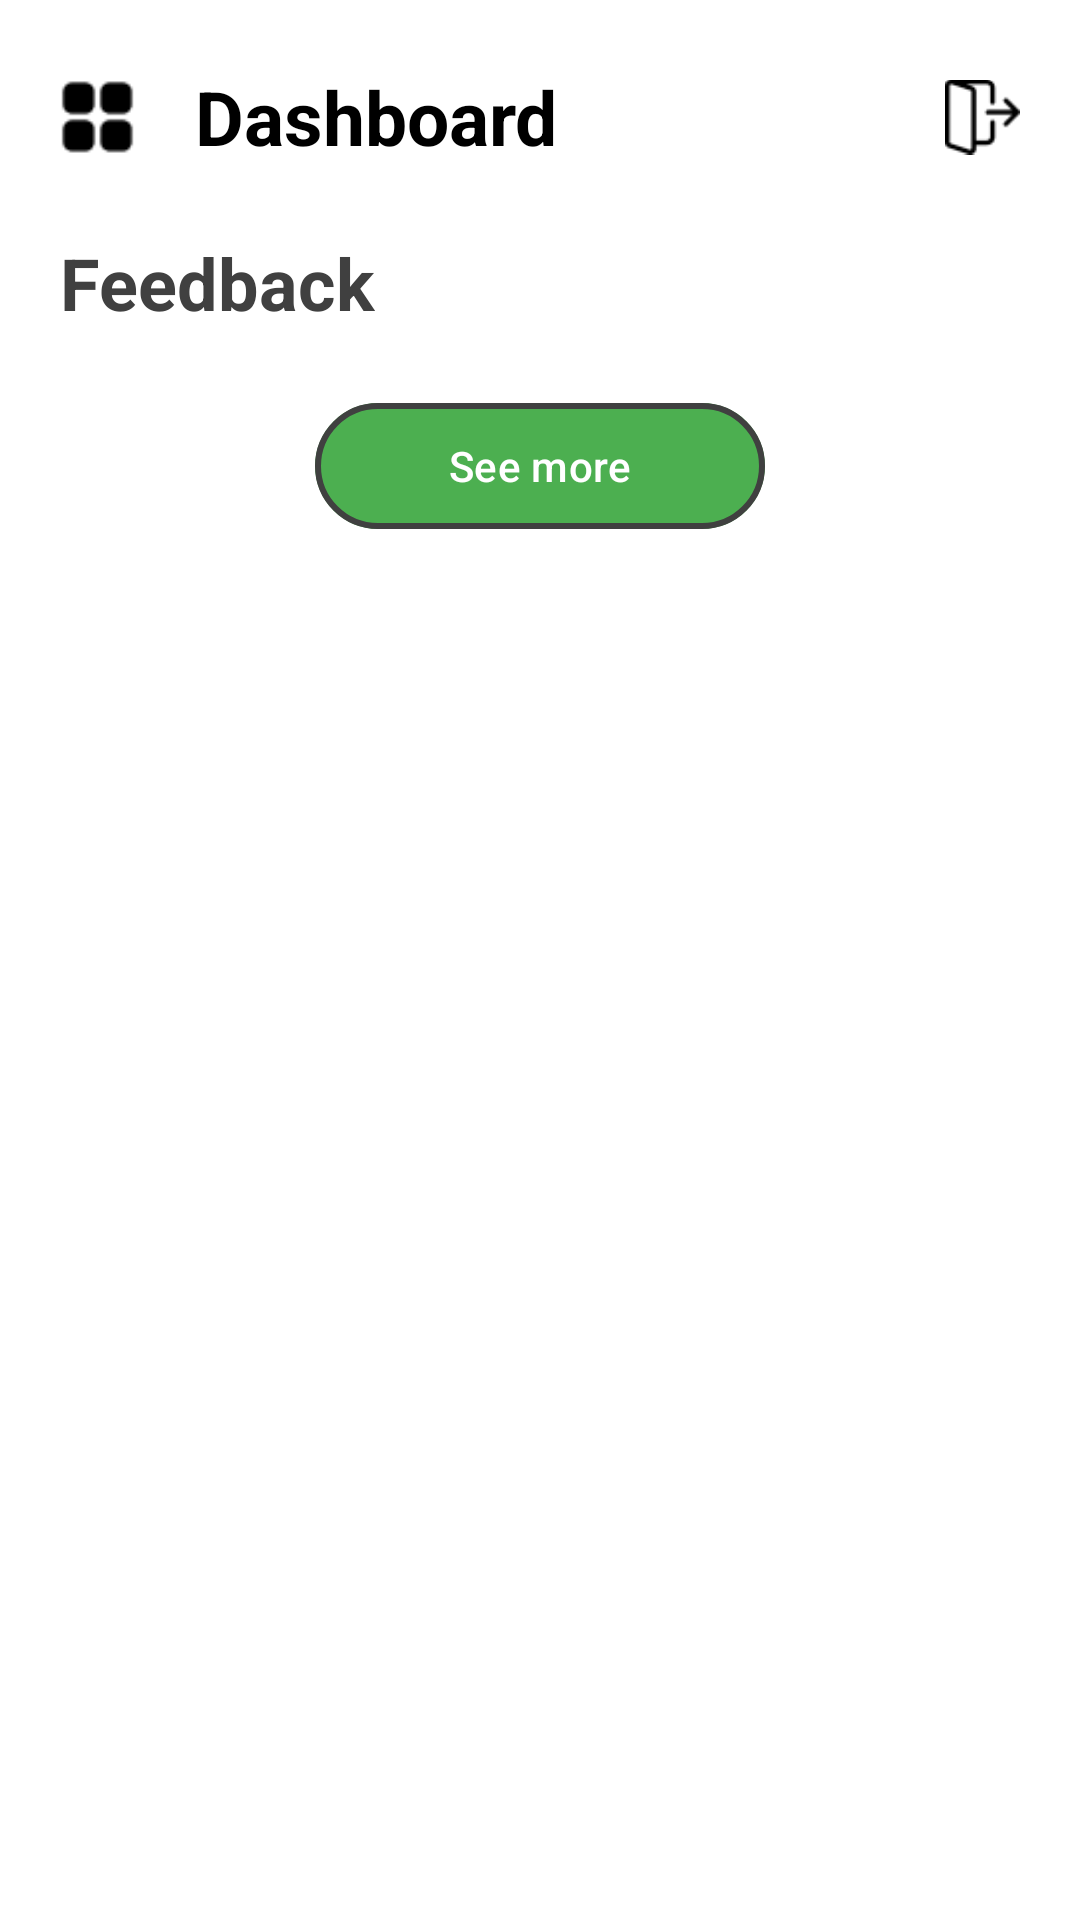

Point at icon controls on the screen. Image size 1080px×1920px, points as (x=x, y=y).
menubtn: (x=97, y=117)
